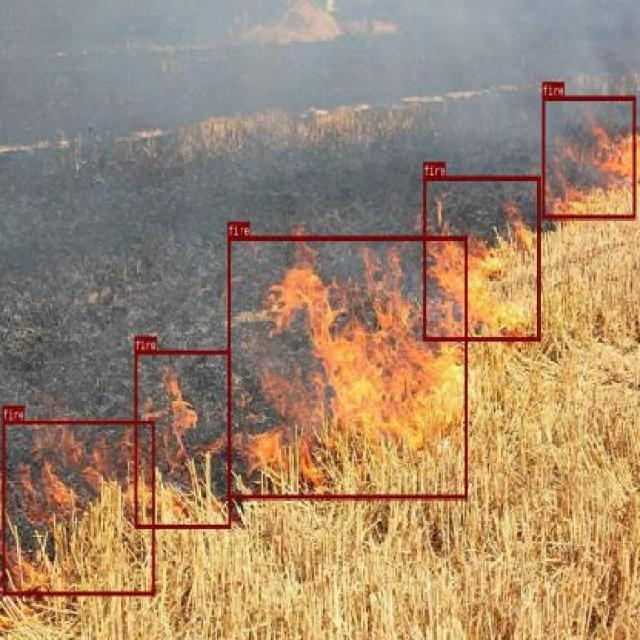Fire: (228, 236, 466, 498), (1, 420, 154, 594), (422, 175, 540, 340), (134, 349, 231, 528), (542, 94, 636, 218)
